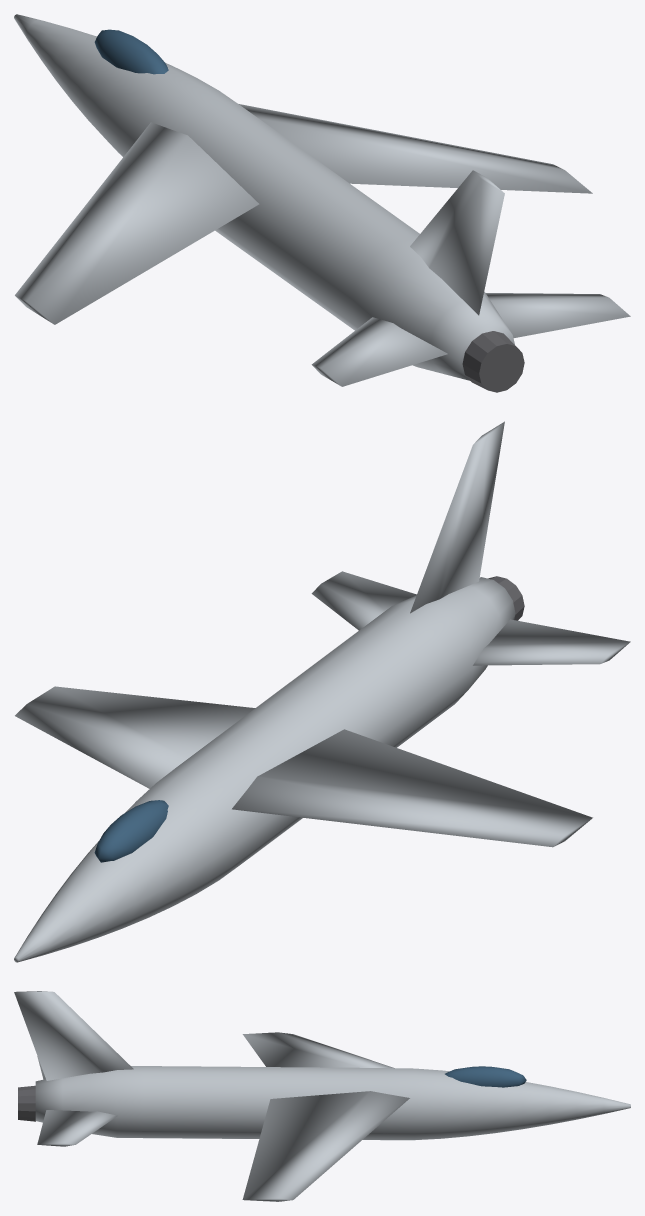
Rendered from harrier.fbx.
The picture shows the model from 3 angles, top to bottom: view 1: azimuth 30°, elevation 25°; view 2: azimuth 150°, elevation 25°; view 3: azimuth 270°, elevation 25°; orthographic projection. The views are drawn at different scales.
Visible parts, largest first — view 1: Body, Detail, Canopy; view 2: Body, Canopy; view 3: Body, Canopy, Detail.
Part boxes in pixels (x1,y1,x2,y2): Body: (14, 14, 630, 386); Detail: (462, 331, 524, 392); Canopy: (94, 29, 168, 74); Body: (14, 421, 630, 962); Canopy: (94, 800, 168, 862); Body: (14, 991, 630, 1201); Canopy: (445, 1066, 526, 1087); Detail: (18, 1085, 35, 1121).
Bounding box in the file's own units: 930 × 379 × 1462.
